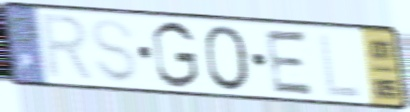E: (263, 27, 318, 98)
G: (149, 18, 201, 91)
L: (317, 31, 364, 100)
O: (201, 22, 254, 94)
R: (39, 11, 98, 85)
S: (89, 16, 141, 86)
